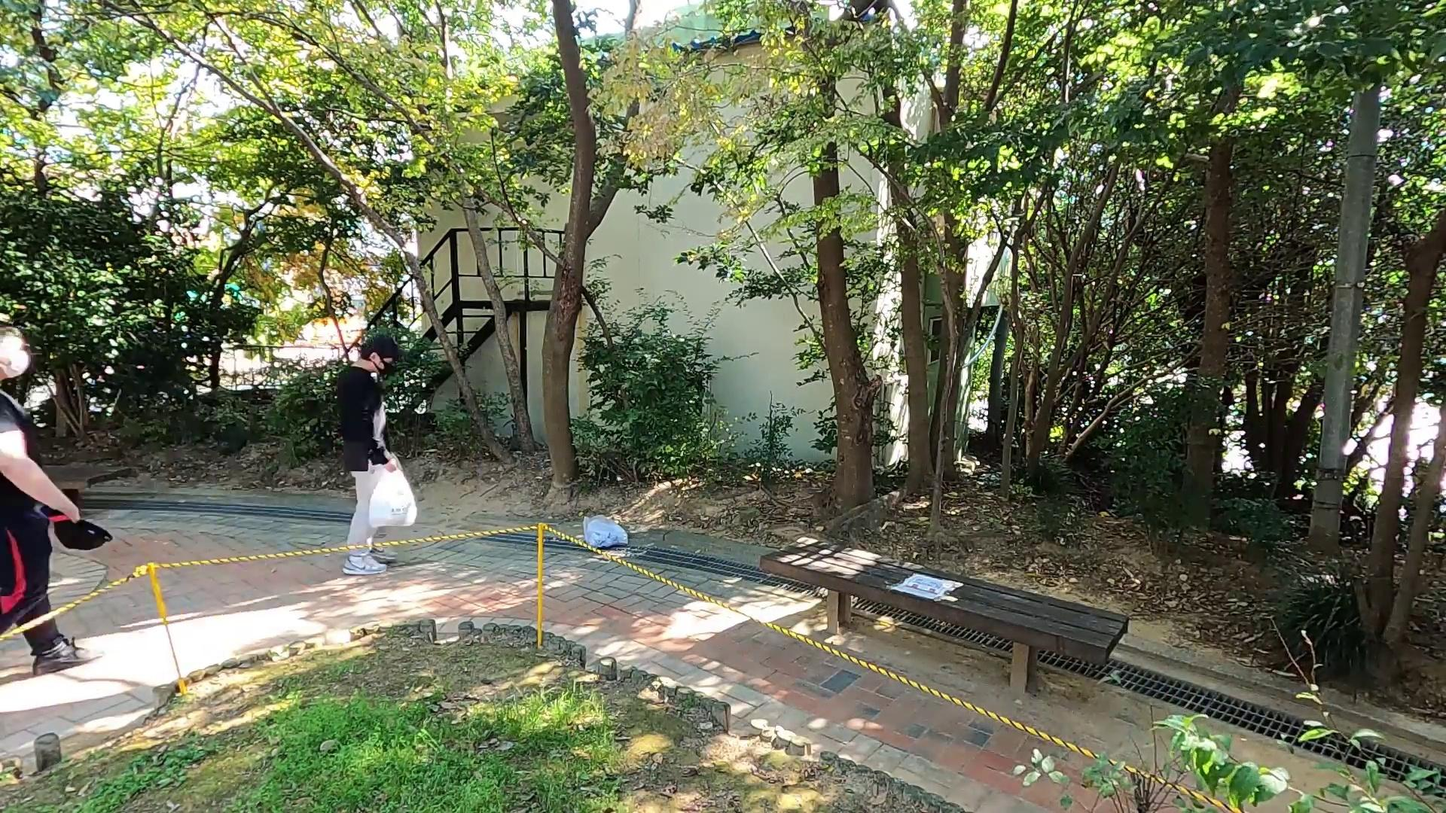person: (0, 320, 105, 673), (331, 331, 408, 579)
trash: (363, 460, 428, 532), (52, 515, 118, 556), (579, 512, 631, 553)
